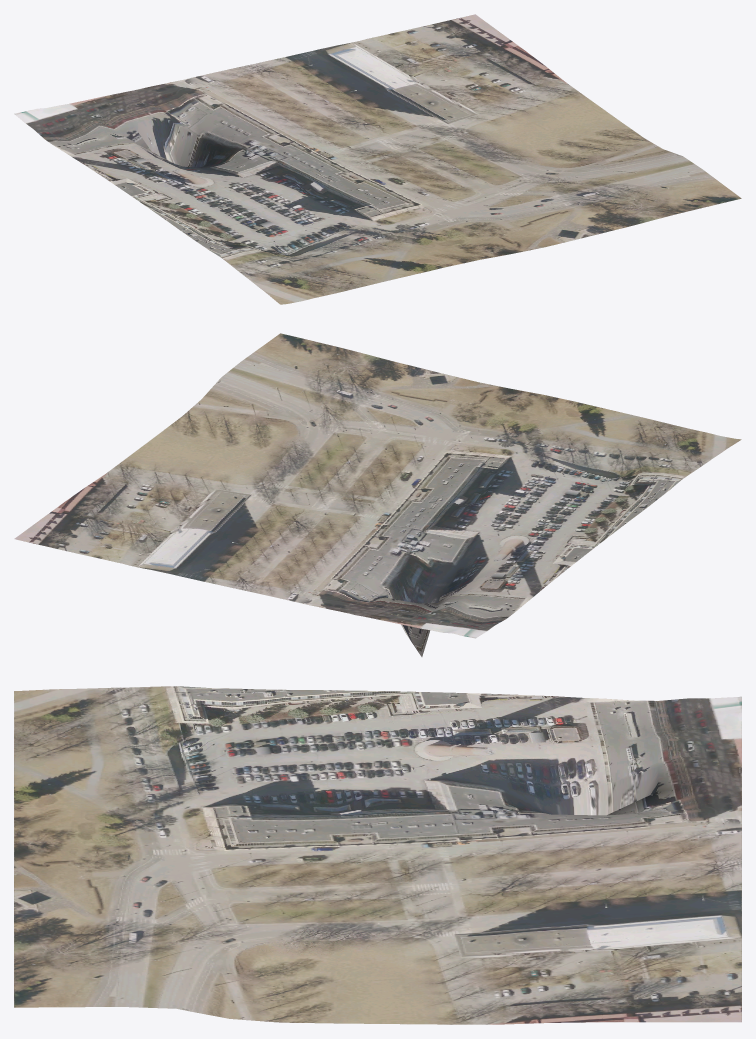
The model's file is CM_Terrain_24486773_6820204.fbx.
The picture shows the model from 3 angles, top to bottom: view 1: azimuth 30°, elevation 25°; view 2: azimuth 150°, elevation 25°; view 3: azimuth 270°, elevation 25°; orthographic projection. The views are drawn at different scales.
Parts seen in each view (by area): view 1: CM_Terrain_24486773_6820204_LOD0; view 2: CM_Terrain_24486773_6820204_LOD0; view 3: CM_Terrain_24486773_6820204_LOD0.
Part boxes in pixels (<box>): CM_Terrain_24486773_6820204_LOD0: <box>14,14,741,304</box>; CM_Terrain_24486773_6820204_LOD0: <box>14,333,741,656</box>; CM_Terrain_24486773_6820204_LOD0: <box>14,686,741,1024</box>.
Size of what is drawn, in the model's own units: 205 by 37.7 by 205.
